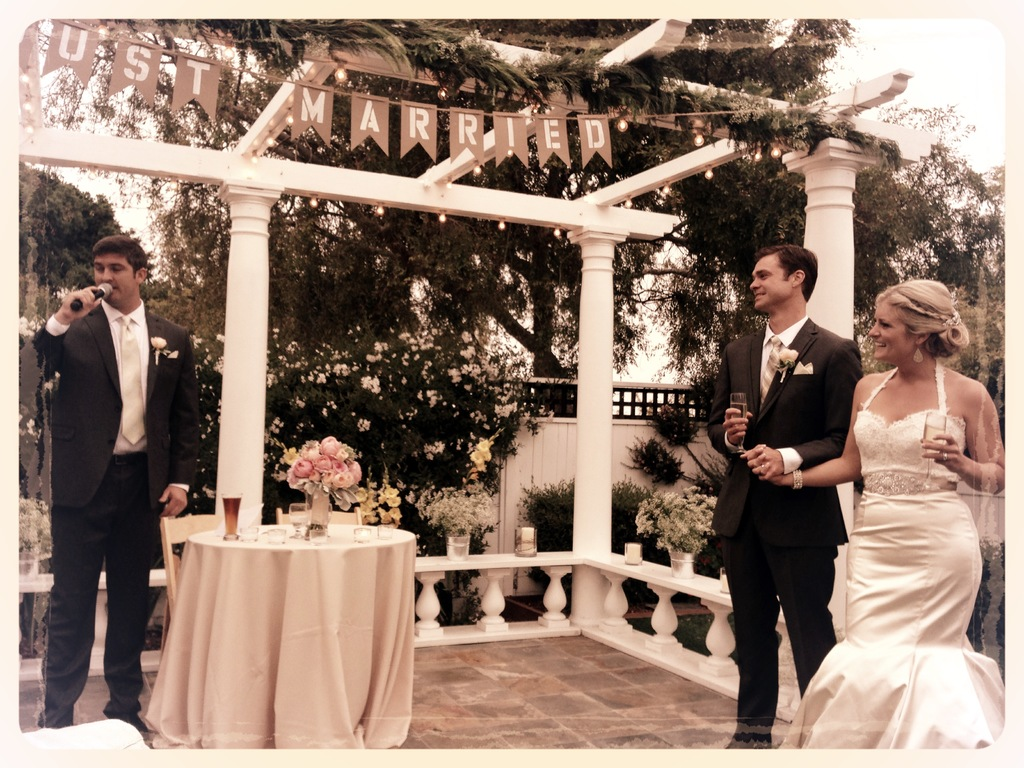face: (869, 297, 909, 360)
